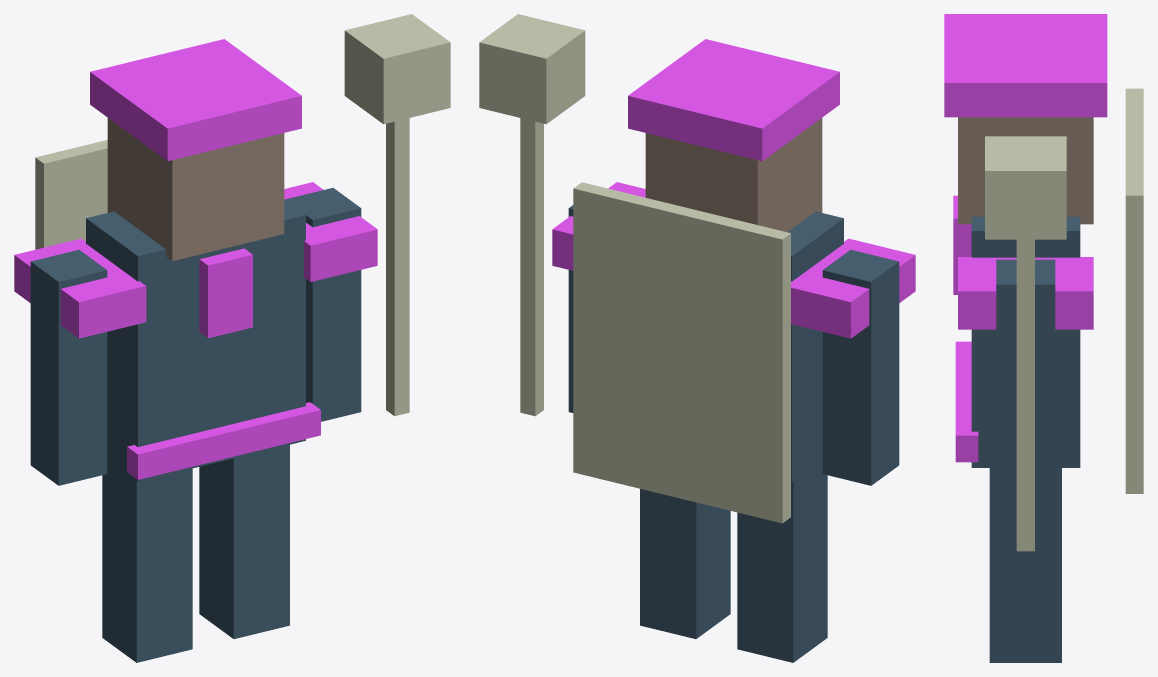
Rendered from 11_calder_dubwater_archivist_at_loot.glb.
3 renders of one model, left to right at view 1: azimuth 30°, elevation 25°; view 2: azimuth 150°, elevation 25°; view 3: azimuth 270°, elevation 25°, orthographic. The views are drawn at different scales.
Parts seen in each view (by area): view 1: Calder Dubwater, Archivist at Loot; view 2: Calder Dubwater, Archivist at Loot; view 3: Calder Dubwater, Archivist at Loot.
Boxes of the visible parts, x1,y1,x2,y2 form: Calder Dubwater, Archivist at Loot: (14,14,450,662); Calder Dubwater, Archivist at Loot: (479,14,915,662); Calder Dubwater, Archivist at Loot: (944,14,1143,662).
Bounding box in the file's own units: 1.07 × 1.45 × 0.4561.
